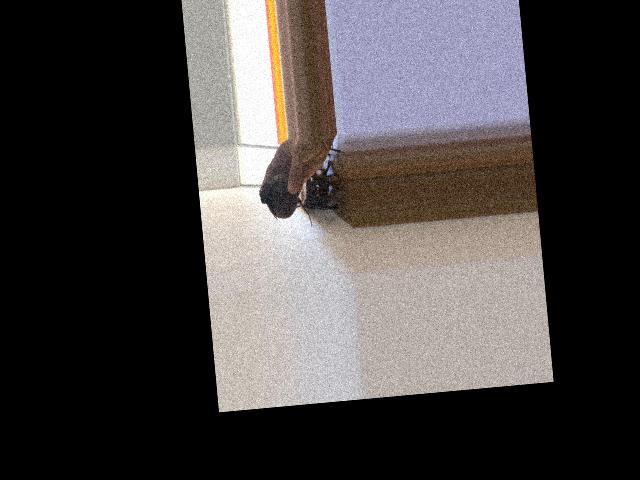beet: (257, 172, 312, 232)
